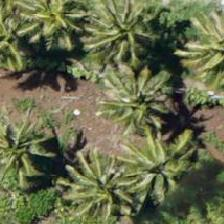coconut_tree: (97, 51, 187, 141), (110, 121, 200, 211), (57, 138, 147, 223), (78, 0, 168, 72), (0, 98, 59, 188), (8, 0, 98, 56), (176, 0, 223, 89), (0, 0, 45, 82)
